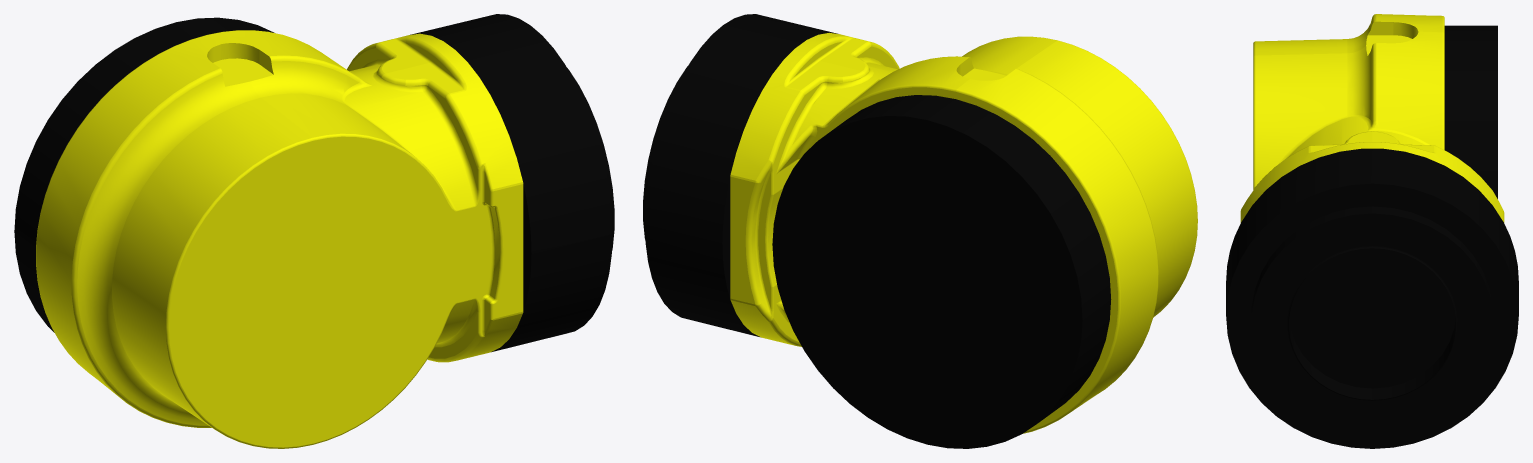
3 renders of one model, left to right at view 1: azimuth 30°, elevation 25°; view 2: azimuth 150°, elevation 25°; view 3: azimuth 270°, elevation 25°, orthographic. The views are drawn at different scales.
Visible parts, largest first — view 1: Mesh_0; view 2: Mesh_0; view 3: Mesh_0.
Boxes of the visible parts, x1=… form: Mesh_0: x1=14, y1=14, x2=614, y2=448; Mesh_0: x1=643, y1=14, x2=1197, y2=448; Mesh_0: x1=1226, y1=14, x2=1518, y2=448.
Bounding box in the file's own units: 0.1171 × 0.07 × 0.0852.
